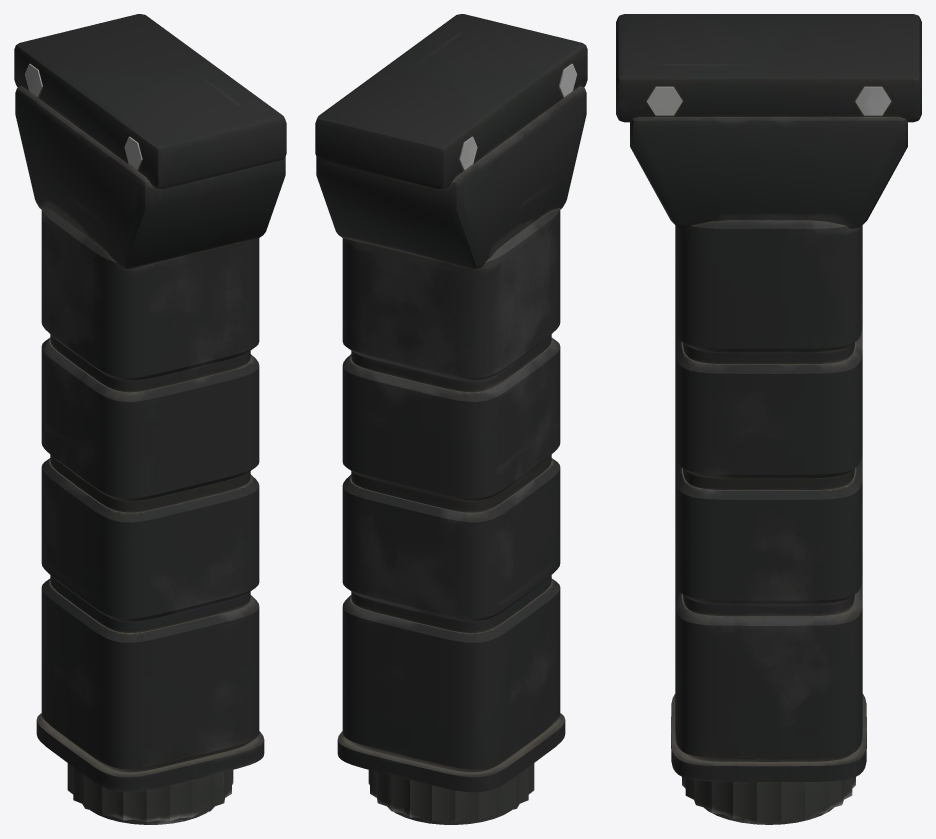
Rendered from empunhadura_quadrada.glb.
The picture shows the model from 3 angles, left to right: view 1: azimuth 30°, elevation 25°; view 2: azimuth 150°, elevation 25°; view 3: azimuth 270°, elevation 25°; orthographic projection. The views are drawn at different scales.
Visible parts, largest first — view 1: empunhadura_quadrada_punho; view 2: empunhadura_quadrada_punho; view 3: empunhadura_quadrada_punho.
Part boxes in pixels (bbox=[...]): empunhadura_quadrada_punho: bbox=[14, 14, 286, 824]; empunhadura_quadrada_punho: bbox=[315, 14, 587, 824]; empunhadura_quadrada_punho: bbox=[616, 14, 921, 824].
Bounding box in the file's own units: 0.0282 × 0.119 × 0.044.
Materials: 1 (1 with a texture image).
